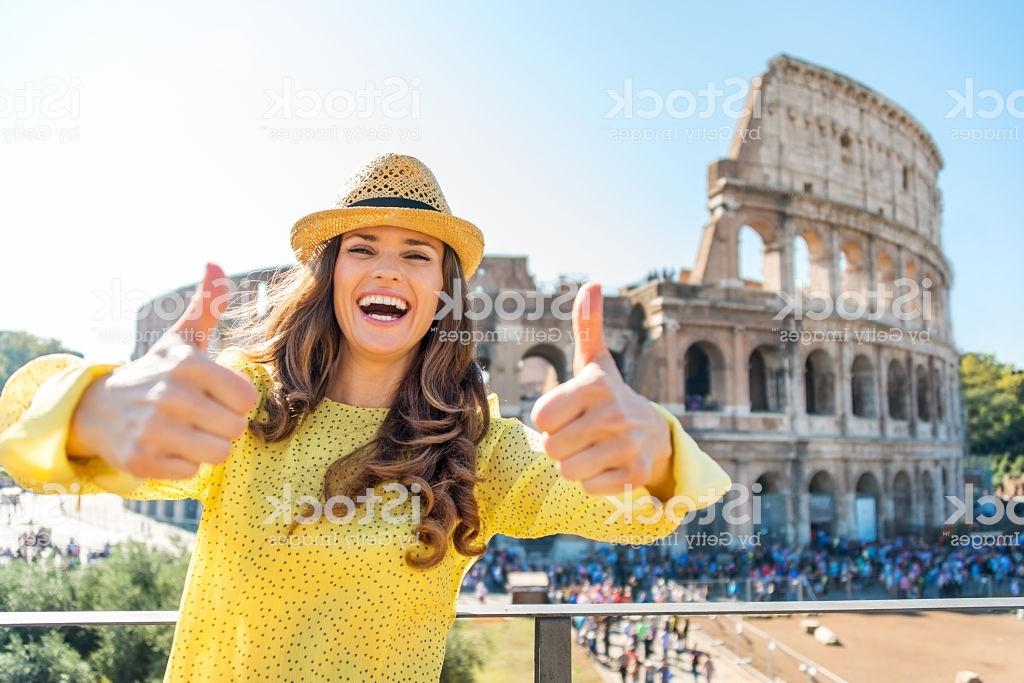thumbsup: (121, 262, 261, 481), (534, 282, 663, 498)
